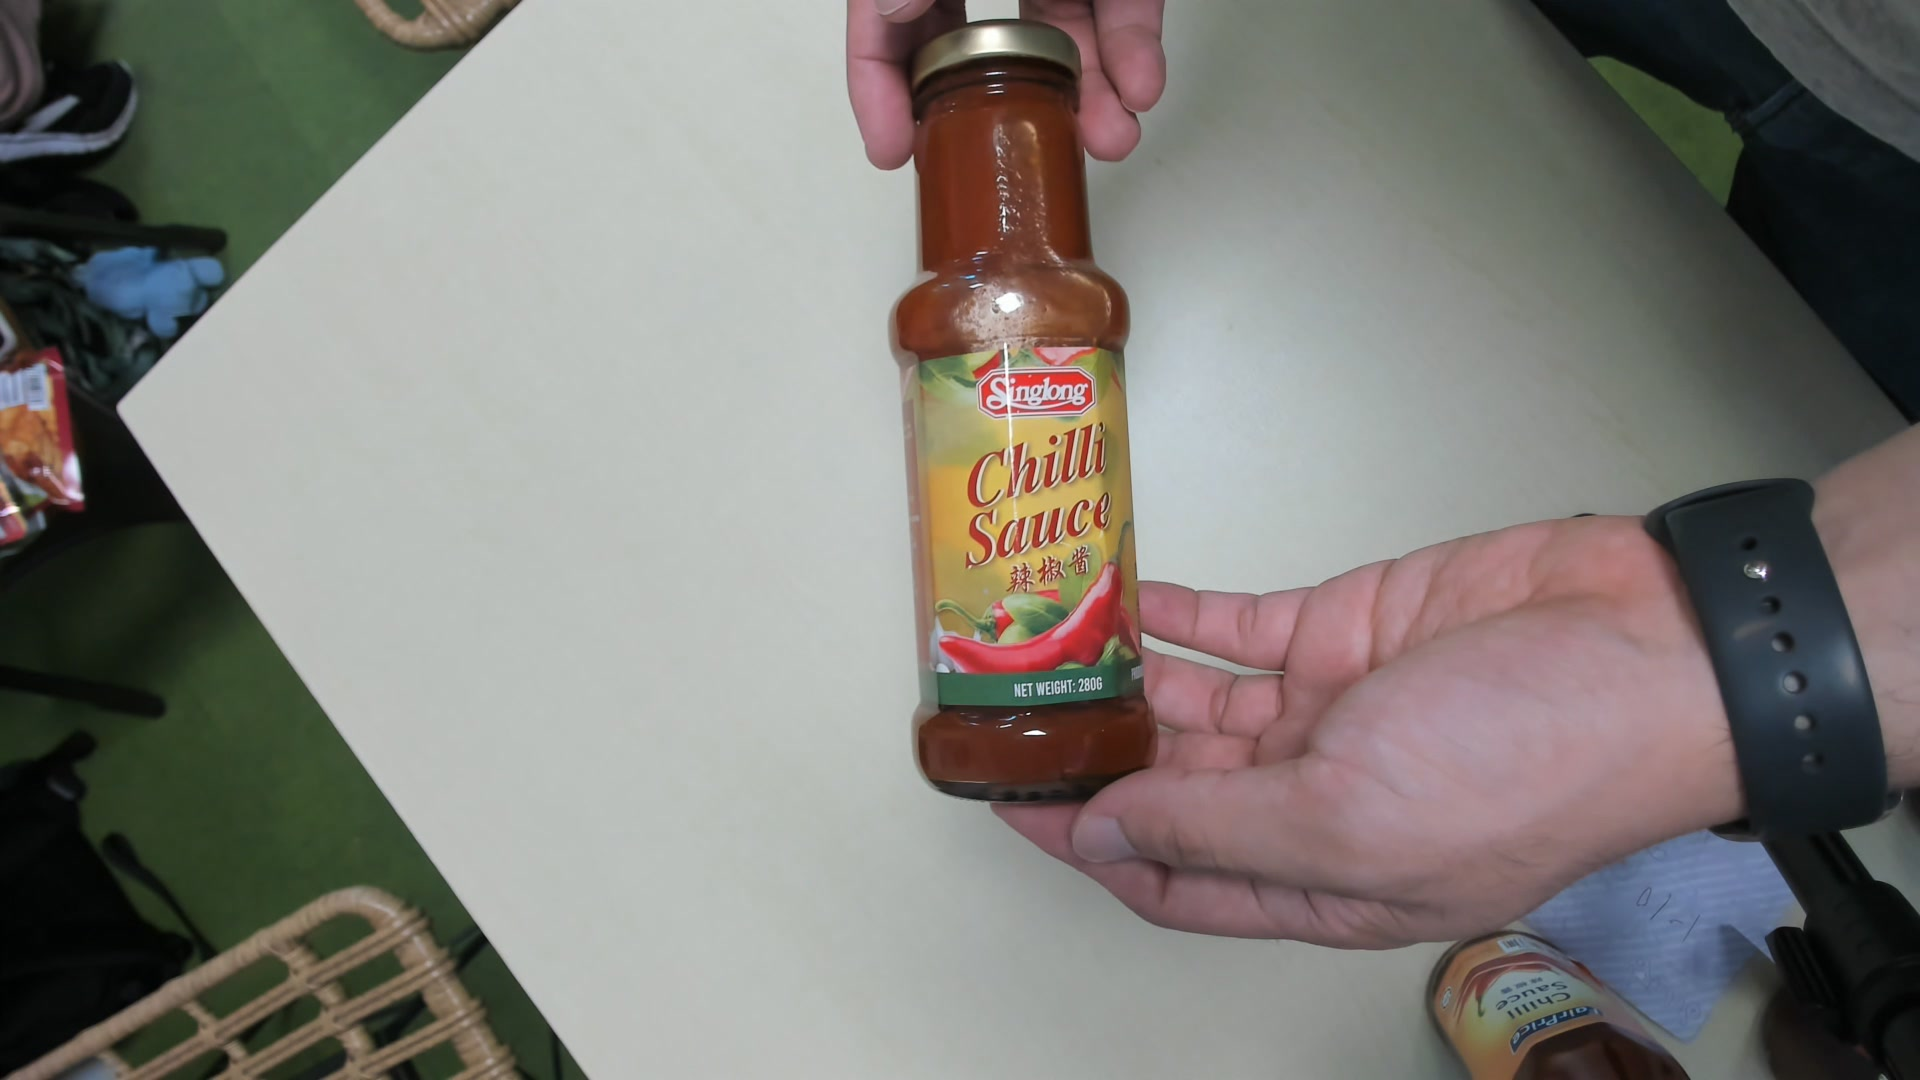KetchupChillSauce_200-299g_Halal_NonHealthy: (887, 21, 1164, 807)
